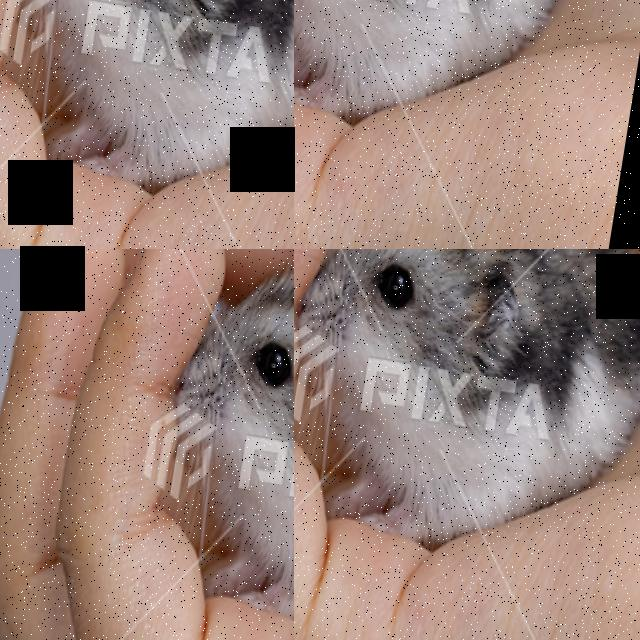hamster: (294, 249, 640, 588), (294, 0, 640, 249), (0, 0, 294, 249), (78, 249, 294, 566)
